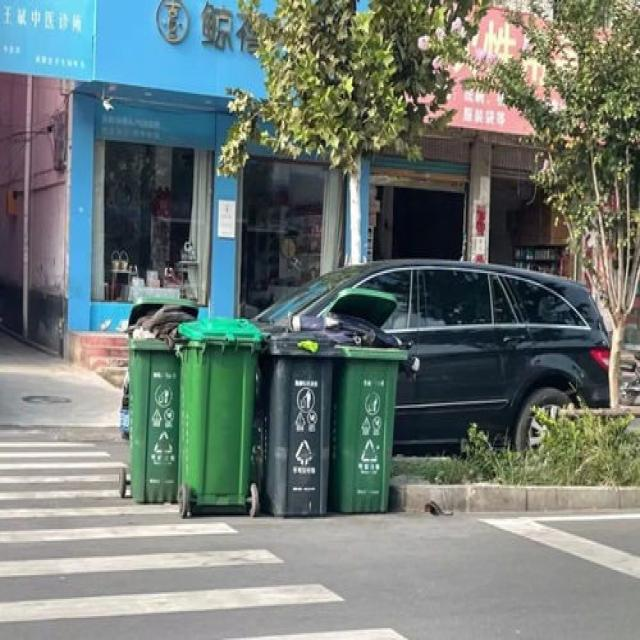garbage_bin: (173, 316, 262, 502), (334, 345, 406, 510)
overflow: (262, 326, 338, 515), (126, 302, 176, 500)
